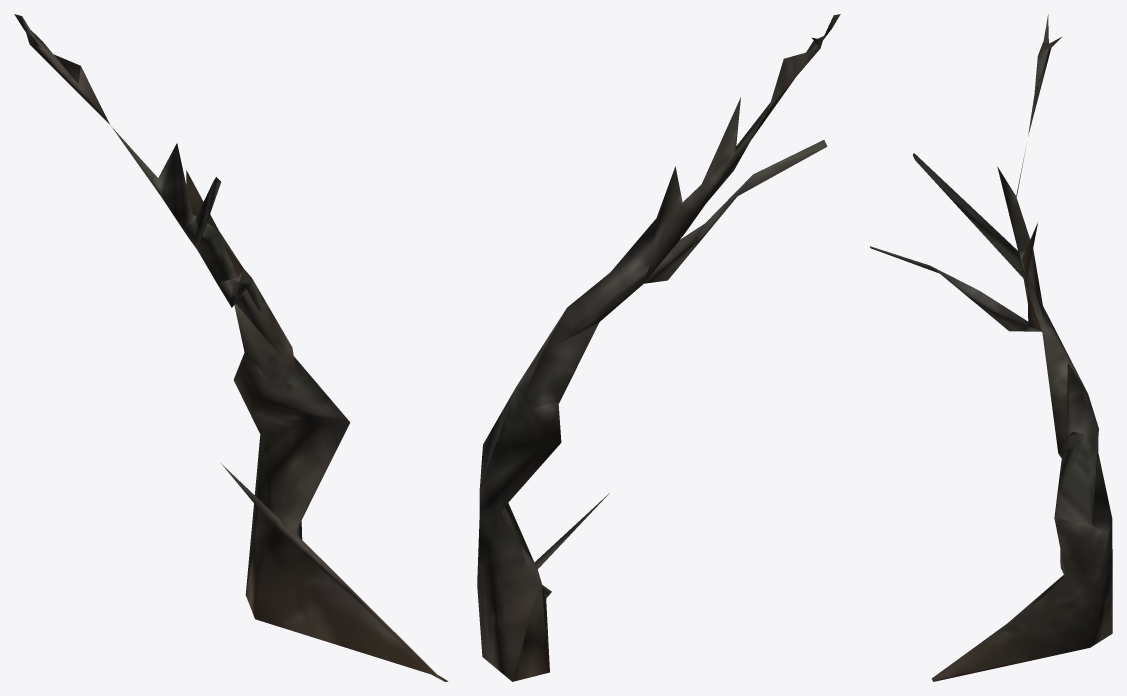
The picture shows the model from 3 angles, left to right: view 1: azimuth 30°, elevation 25°; view 2: azimuth 150°, elevation 25°; view 3: azimuth 270°, elevation 25°; orthographic projection. The views are drawn at different scales.
Visible parts, largest first — view 1: tree3; view 2: tree3; view 3: tree3.
Part boxes in pixels (x1,y1,x2,y2): tree3: (14,14,448,681); tree3: (477,14,840,681); tree3: (869,14,1112,681).
Size of the model in its own units: 3.48 by 6.48 by 2.67.
Materials: 1 (1 with a texture image).
